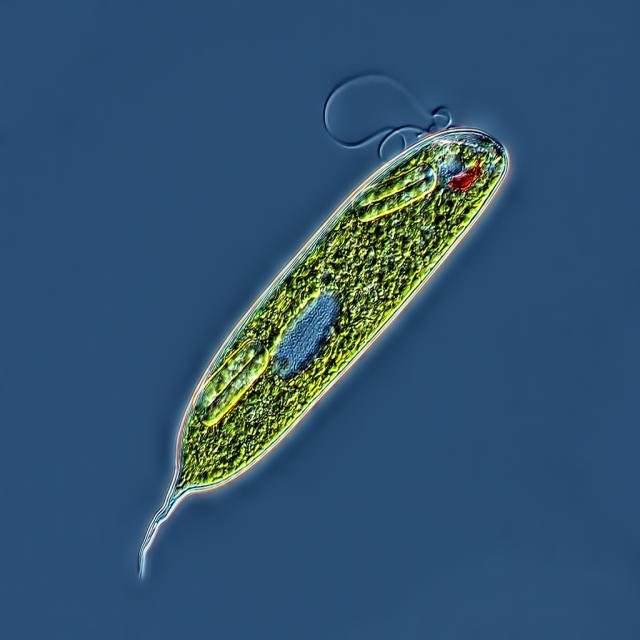Euglena: (136, 121, 510, 581)
